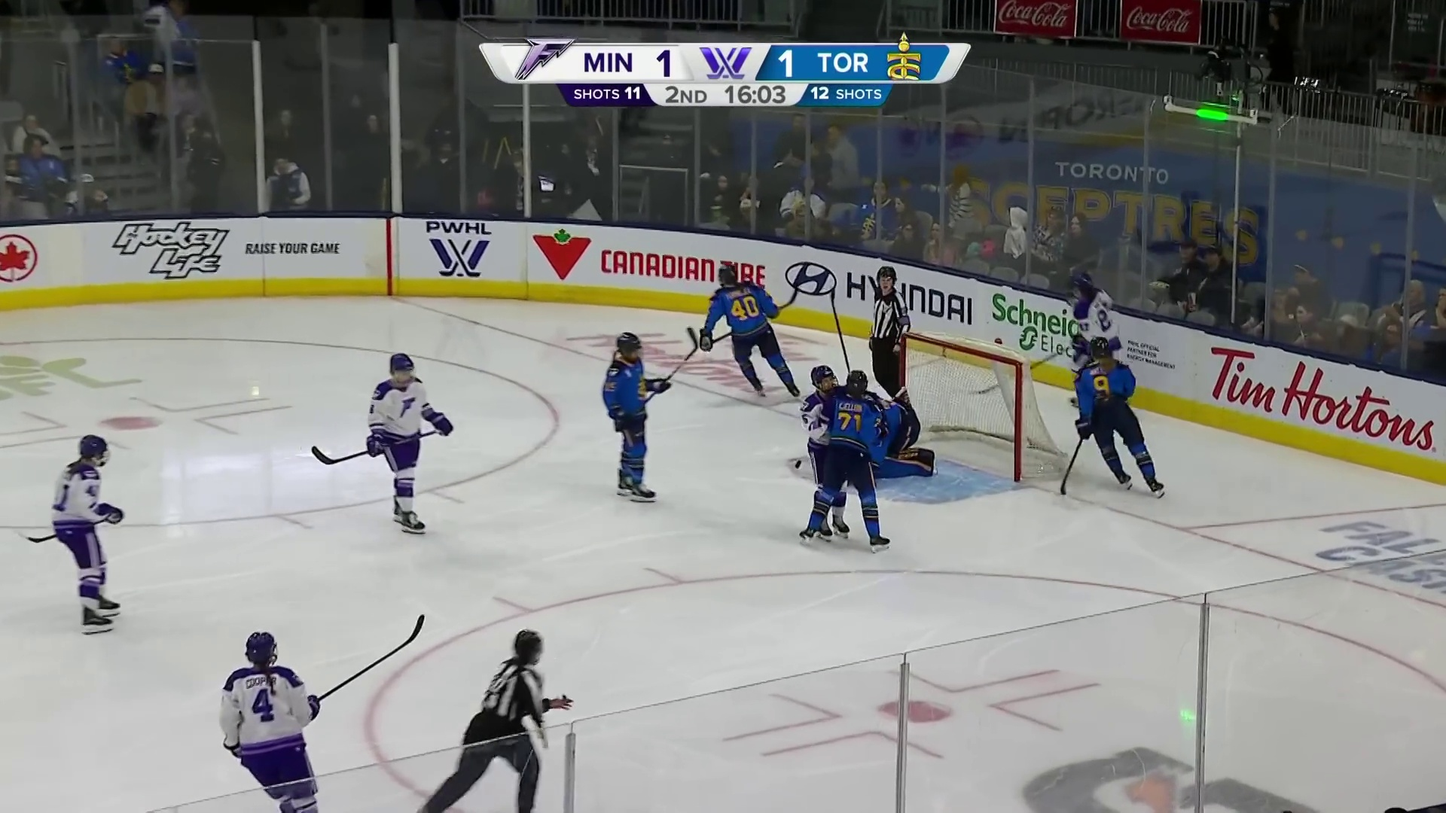player: (218, 631, 321, 812), (800, 371, 894, 553), (365, 350, 455, 535), (51, 436, 127, 636), (1074, 335, 1165, 497), (699, 265, 802, 398), (602, 330, 674, 501), (801, 364, 842, 488)
referee: (415, 630, 574, 813), (871, 264, 908, 396)
